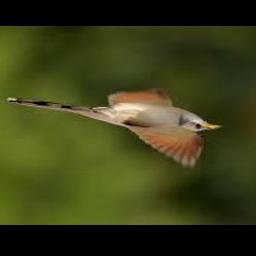Cuckoo: (7, 92, 222, 167)
